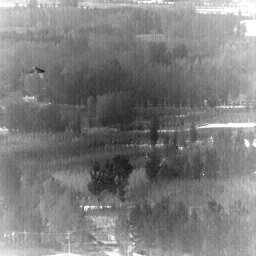aircraft: (114, 130, 116, 132)
